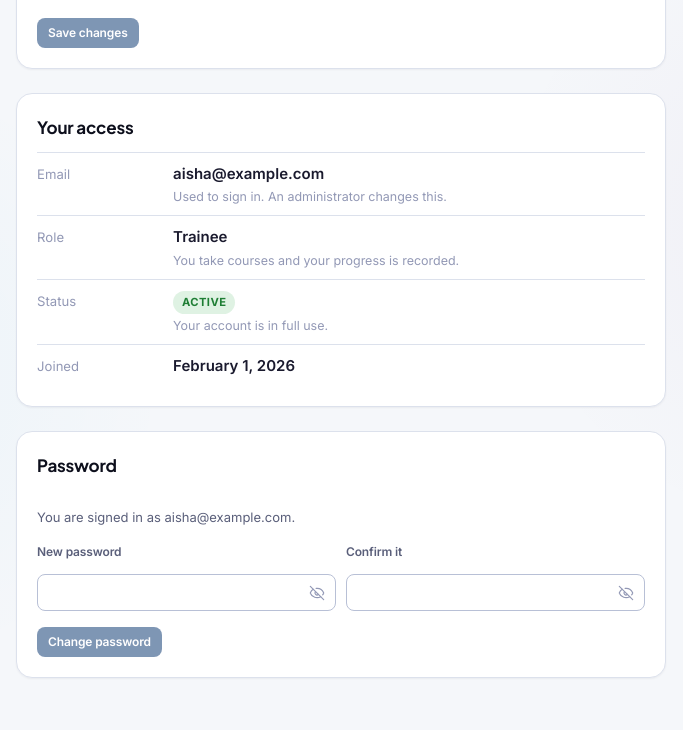
it: changing the password › states the minimum length before it is hit
(page scrolled)
Step 1. Type "abc" into the password field labelled "New password" → (187,593), box [37,574,336,611]
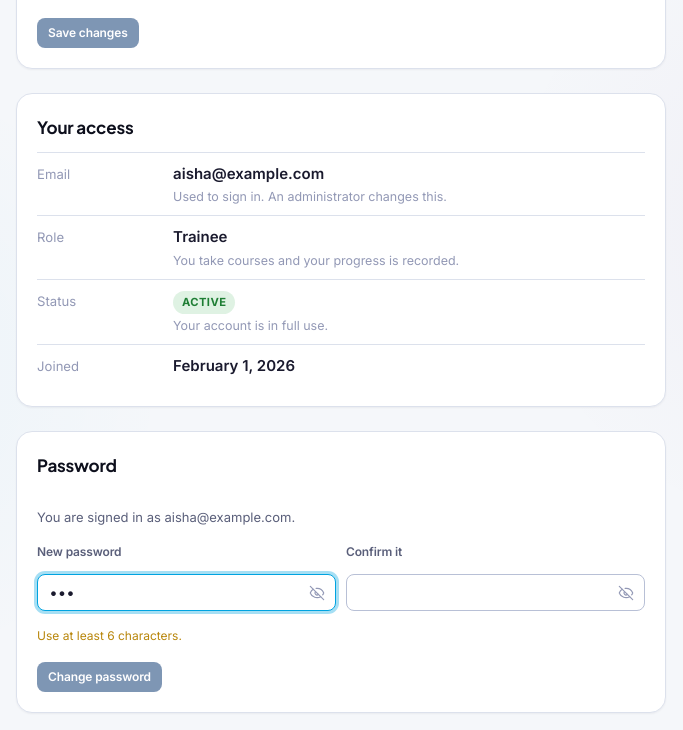
Check: the text "Use at least 6 characters." is shown, box [37,628,182,643]
